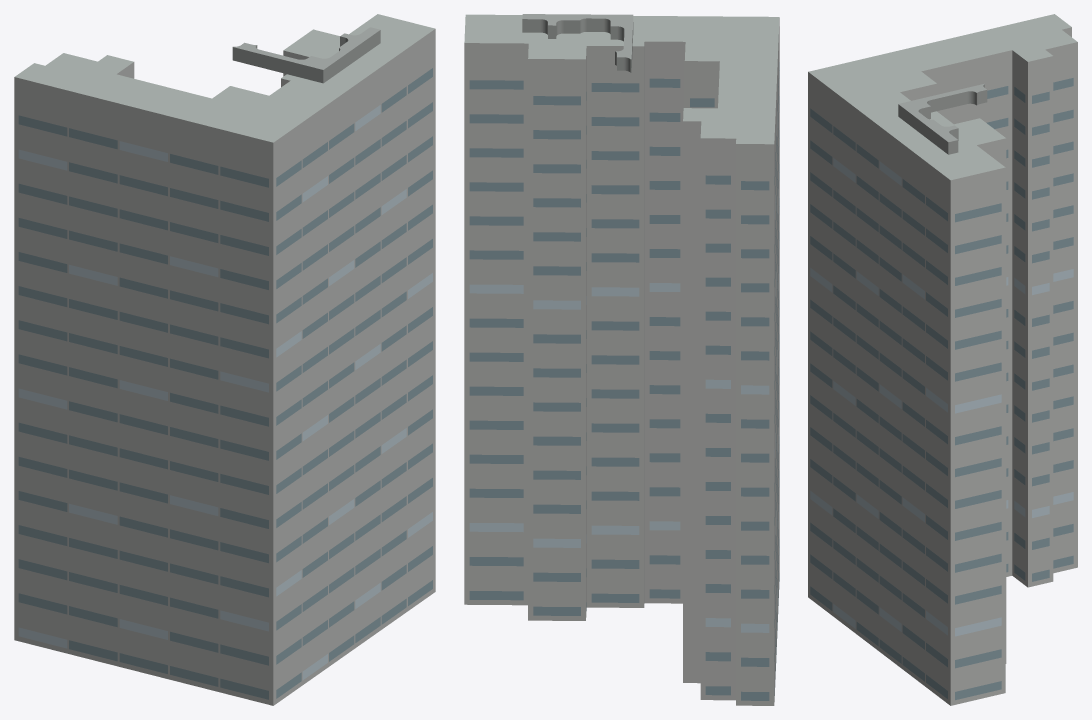
File: fallback-onebailey-118.glb
3 views of the same model, side by side, from view 1: azimuth 30°, elevation 25°; view 2: azimuth 150°, elevation 25°; view 3: azimuth 270°, elevation 25° (orthographic). The views are drawn at different scales.
Visible parts, largest first — view 1: fallback-onebailey-118; view 2: fallback-onebailey-118; view 3: fallback-onebailey-118.
Boxes of the visible parts, x1,y1,x2,y2 form: fallback-onebailey-118: (14, 14, 435, 705); fallback-onebailey-118: (464, 14, 779, 705); fallback-onebailey-118: (808, 14, 1077, 705).
Size of the model in its own units: 68.29 by 103 by 46.78.
